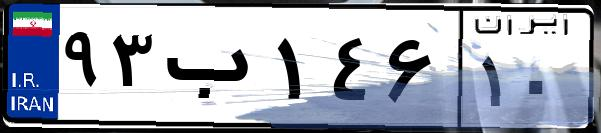0: (525, 38, 570, 115)
1: (270, 28, 330, 110), (475, 38, 525, 113)
3: (110, 28, 158, 98)
4: (330, 28, 385, 110)
6: (385, 28, 445, 110)
9: (57, 26, 110, 100)
ب: (158, 20, 270, 120)
